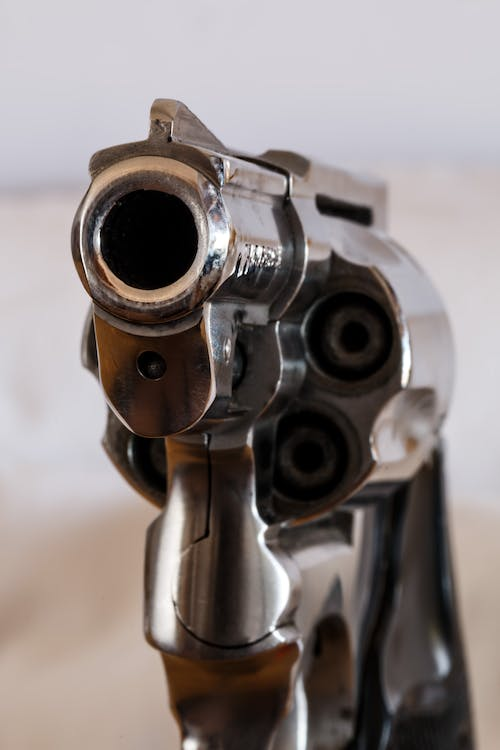gun: (63, 94, 481, 750)
